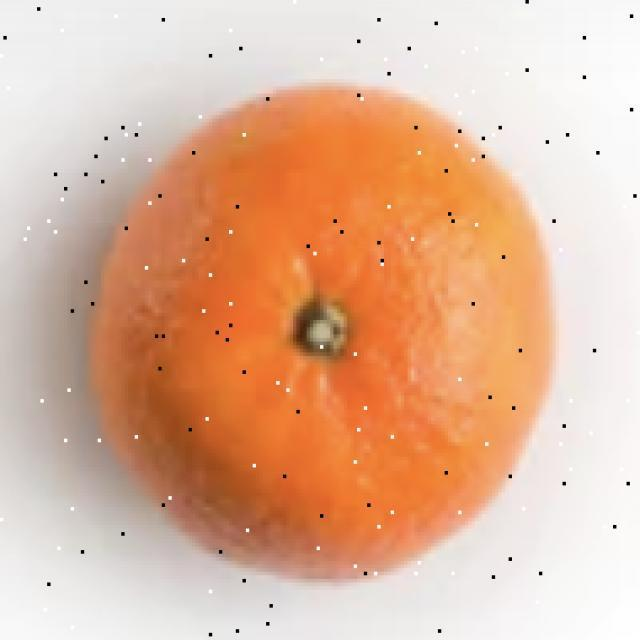Orange: (88, 82, 555, 580)
